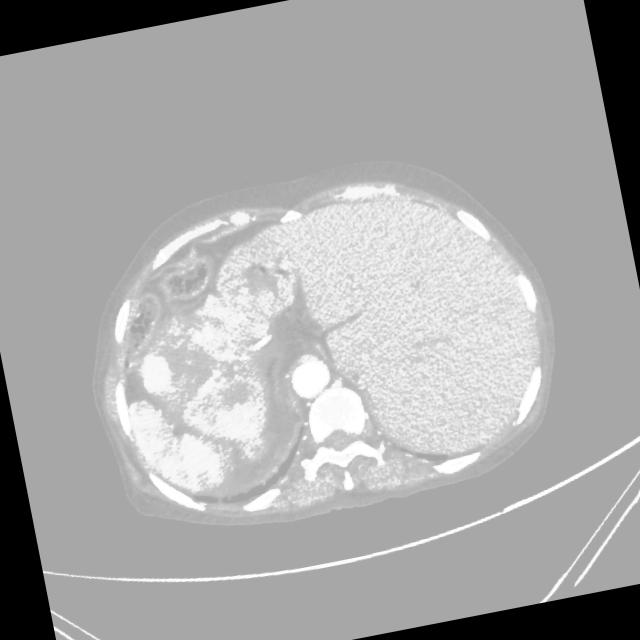TUMOR: (76, 306, 274, 524)
